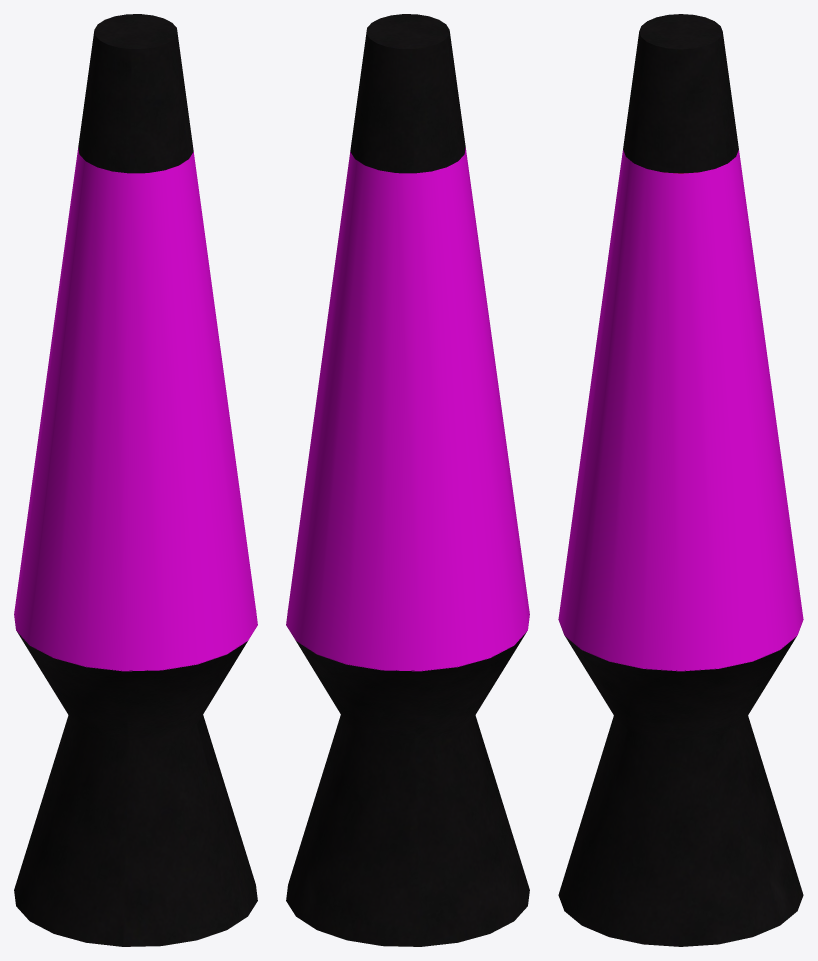
Rendered from lava_lamp.glb.
3 views of the same model, side by side, from view 1: azimuth 30°, elevation 25°; view 2: azimuth 150°, elevation 25°; view 3: azimuth 270°, elevation 25° (orthographic).
Parts seen in each view (by area): view 1: pCylinder1; view 2: pCylinder1; view 3: pCylinder1.
Boxes of the visible parts, left/top/right/bottom form: pCylinder1: left=14, top=14, right=257, bottom=946; pCylinder1: left=286, top=14, right=529, bottom=946; pCylinder1: left=558, top=14, right=803, bottom=946.
Size of the model in its own units: 238 by 926 by 238.
2 materials, 2 textured.
